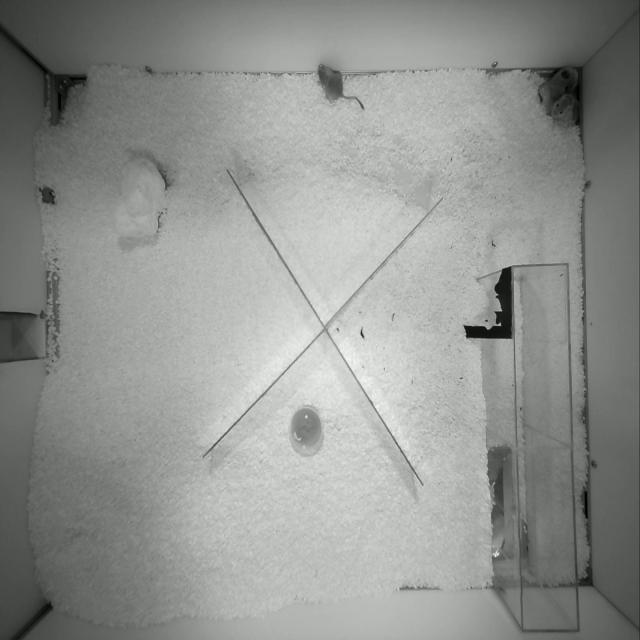pup_fluffy: (318, 63, 364, 108)
pup_h_stripe: (551, 94, 579, 126)
pup_spotted: (540, 67, 578, 113)
